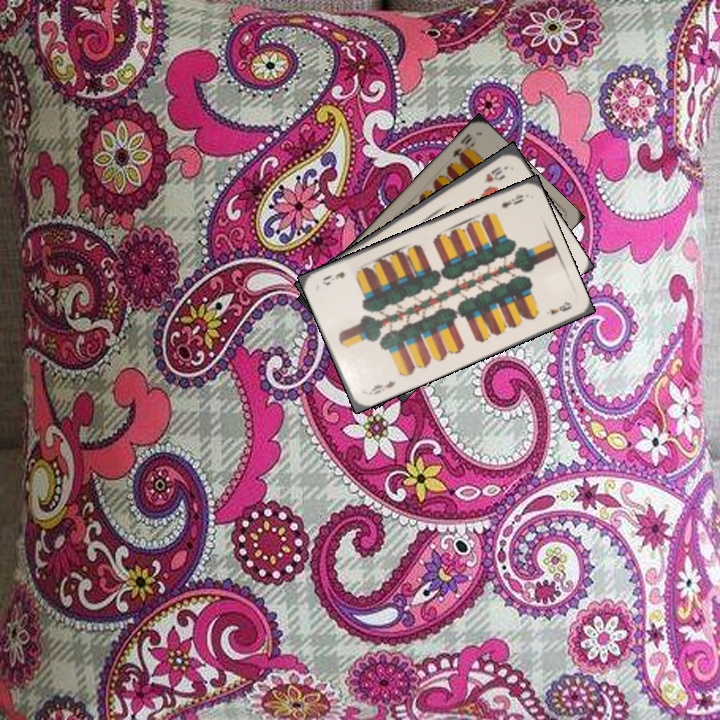E10: (449, 130, 478, 163)
E9: (365, 377, 398, 397), (498, 190, 526, 211)
H10: (479, 162, 505, 186)
